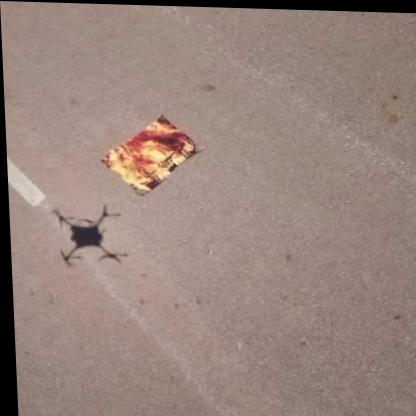fire-poster: (95, 111, 206, 197)
